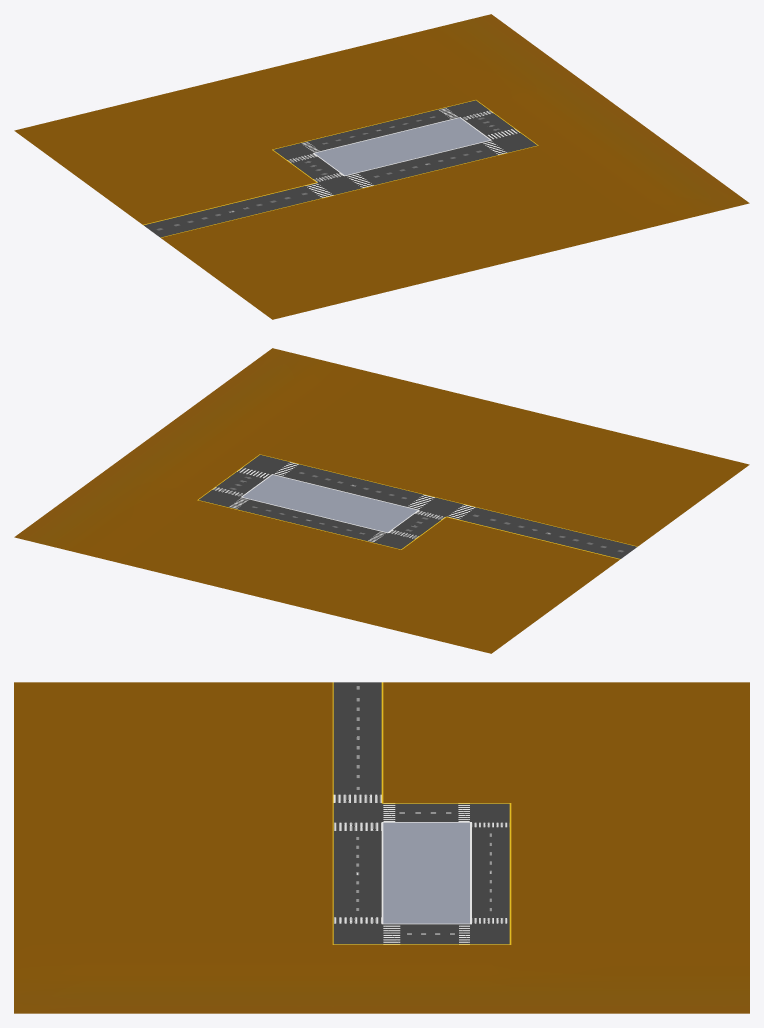
The model's file is desert_ground.fbx.
3 views of the same model, one above another, from view 1: azimuth 30°, elevation 25°; view 2: azimuth 150°, elevation 25°; view 3: azimuth 270°, elevation 25° (orthographic). The views are drawn at different scales.
Parts seen in each view (by area): view 1: road_ground; view 2: road_ground; view 3: road_ground.
Boxes of the visible parts, <box> form: road_ground: <box>14,14,749,319</box>; road_ground: <box>14,348,749,653</box>; road_ground: <box>14,682,749,1013</box>.
Size of the model in its own units: 2084 by 0.000319 by 1955.
